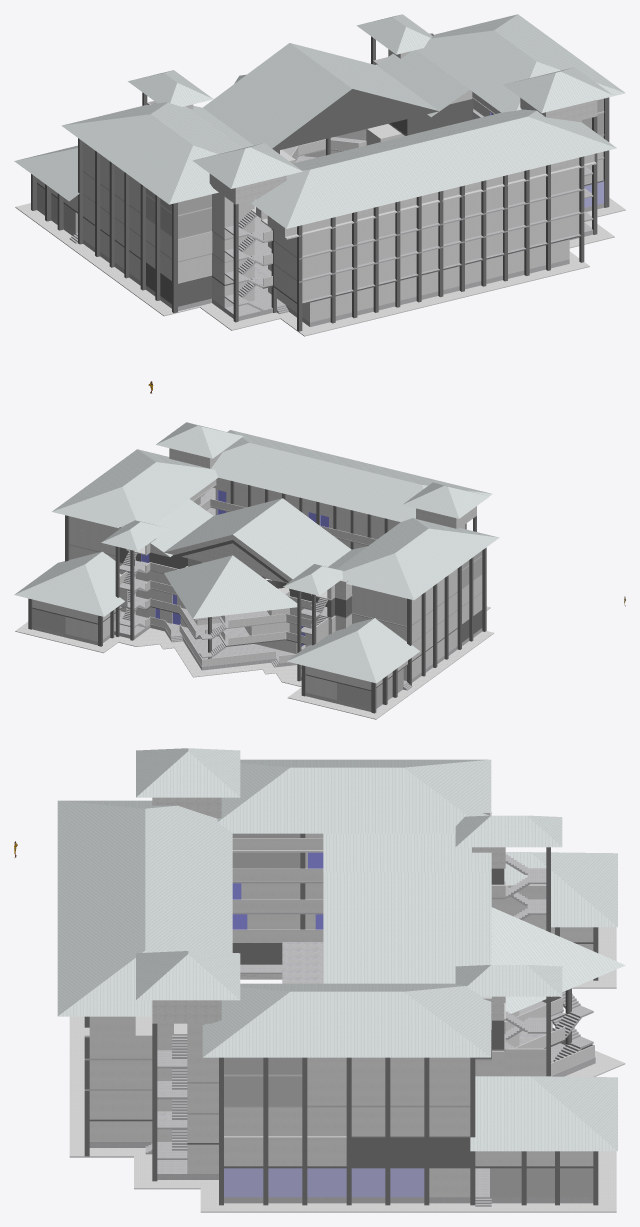
The model's file is Annex 1.glb.
3 renders of one model, top to bottom at view 1: azimuth 30°, elevation 25°; view 2: azimuth 150°, elevation 25°; view 3: azimuth 270°, elevation 25°, orthographic. The views are drawn at different scales.
Visible parts, largest first — view 1: Roof wing#1, Roof wing (×2), object 155, Column#2 (×13), Roof tanki air (×2), object 4, Column#1 (×8), Roof tanki air#1, object 12, object 65, object 191, object 107 (+33 smaller); view 2: Roof wing (×2), object 155, Roof wing#1, object 71, object 4, Roof tanki air (×2), object 70, object 12, Roof tanki air#1, object 50, object 191, object 114 (+27 smaller); view 3: Roof wing (×2), Roof wing#1, object 155, Roof tanki air (×2), object 4, object 70, Roof tanki air#1, object 192, Column#1 (×7), object 71, object 5, object 12 (+38 smaller).
Boxes of the visible parts, bbox=[...] form: Roof wing#1: bbox=[251, 109, 616, 228]; Roof wing (×2): bbox=[61, 14, 625, 204]; object 155: bbox=[203, 43, 438, 151]; Column#2 (×13): bbox=[233, 116, 597, 331]; Roof tanki air (×2): bbox=[192, 67, 613, 204]; object 4: bbox=[15, 198, 625, 336]; Column#1 (×8): bbox=[78, 97, 609, 312]; Roof tanki air#1: bbox=[128, 14, 432, 106]; object 12: bbox=[37, 203, 604, 326]; object 65: bbox=[268, 249, 438, 302]; object 191: bbox=[377, 50, 472, 117]; object 107: bbox=[273, 203, 438, 256]; Roof wing (×2): bbox=[52, 449, 499, 600]; object 155: bbox=[164, 498, 351, 618]; Roof wing#1: bbox=[211, 430, 492, 521]; object 71: bbox=[287, 618, 420, 683]; object 4: bbox=[15, 577, 493, 719]; Roof tanki air (×2): bbox=[156, 422, 489, 528]; object 70: bbox=[14, 551, 124, 616]; object 12: bbox=[32, 578, 482, 711]; Roof tanki air#1: bbox=[101, 520, 342, 595]; object 50: bbox=[120, 589, 421, 689]; object 191: bbox=[150, 499, 212, 557]; object 114: bbox=[352, 574, 457, 626]; Roof wing (×2): bbox=[202, 759, 491, 1057]; Roof wing#1: bbox=[57, 800, 232, 1016]; object 155: bbox=[323, 872, 625, 1013]; Roof tanki air (×2): bbox=[136, 748, 240, 1023]; object 4: bbox=[69, 927, 625, 1212]; object 70: bbox=[470, 1076, 617, 1151]; Roof tanki air#1: bbox=[455, 815, 562, 996]; object 192: bbox=[323, 833, 491, 872]; Column#1 (×7): bbox=[219, 1057, 475, 1205]; object 71: bbox=[504, 852, 617, 927]; object 5: bbox=[224, 1168, 424, 1197]; object 12: bbox=[89, 964, 595, 1203].
Size of the model in its own units: 76.14 by 21.21 by 55.17.
Materials: 14 (3 with a texture image).
